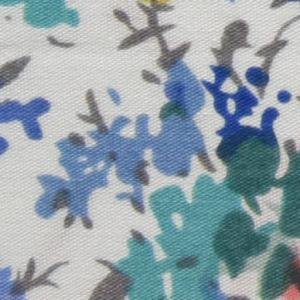Oil Stain: (139, 1, 173, 13)
Stain: (278, 250, 300, 300)
